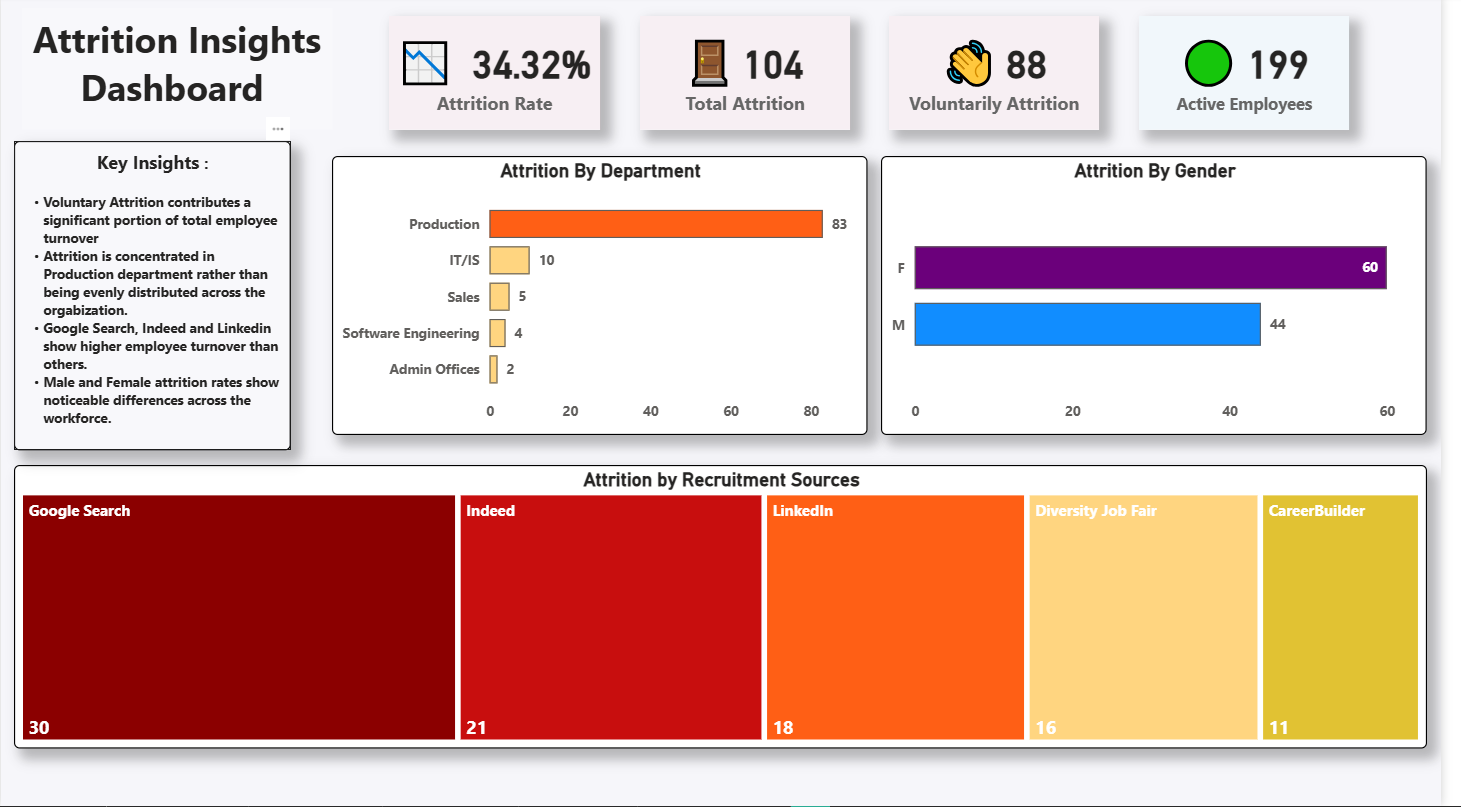

The dashboard page shown, as its layout file describes it:
{"tool":"powerbi","page":{"name":"Attrition Analysis","canvas":[1280,720],"ordinal":1},"visuals":[{"type":"card","fields":{"Values":["project attrition_analysis.Attrition Rate"]},"box":[345.3,17.8,187.6,101.4],"z":0},{"type":"card","fields":{"Values":["project attrition_analysis.Total Attrition"]},"box":[567.8,17.8,187,101.4],"z":1000},{"type":"card","fields":{"Values":["project attrition_analysis.Active Employees"]},"box":[1011.4,17.8,187,101.4],"z":2000},{"type":"barChart","title":"Attrition By Department","fields":{"Category":["project attrition_analysis.Department"],"Y":["CountNonNull(project attrition_analysis.Employee_name)"]},"box":[294.2,142.2,475.6,248],"z":3000},{"type":"barChart","title":"Attrition By Gender","fields":{"Y":["CountNonNull(project attrition_analysis.Employee_name)"],"Category":["project attrition_analysis.Sex"]},"box":[782.2,142.2,485.3,248],"z":4000},{"type":"treemap","fields":{"Group":["project attrition_analysis.RecruitmentSource"],"Values":["CountNonNull(project attrition_analysis.Employee_name)"]},"box":[11.7,416.6,1256,252.3],"z":5000},{"type":"card","fields":{"Values":["project attrition_analysis.Voluntarily Attrition"]},"box":[789.6,17.8,187,101.4],"z":6000},{"type":"textbox","box":[18.7,10.7,275.6,108.4],"z":7000},{"type":"textbox","box":[11.9,129.1,246.3,274.7],"z":8000}]}

Visuals, with their boxes in screenshot pixels (x1, y1, x2, y2), scaled from the page's 1280x720 canvas onto the 1461x807 screenshot:
card - project attrition_analysis.Attrition Rate: [x1=394, y1=20, x2=608, y2=134]
card - project attrition_analysis.Total Attrition: [x1=648, y1=20, x2=862, y2=134]
card - project attrition_analysis.Active Employees: [x1=1154, y1=20, x2=1368, y2=134]
"Attrition By Department" barChart: [x1=336, y1=159, x2=879, y2=437]
"Attrition By Gender" barChart: [x1=893, y1=159, x2=1447, y2=437]
treemap - project attrition_analysis.RecruitmentSource x CountNonNull(project attrition_analysis.Employee_name): [x1=13, y1=467, x2=1447, y2=750]
card - project attrition_analysis.Voluntarily Attrition: [x1=901, y1=20, x2=1115, y2=134]
textbox: [x1=21, y1=12, x2=336, y2=133]
textbox: [x1=14, y1=145, x2=295, y2=453]
